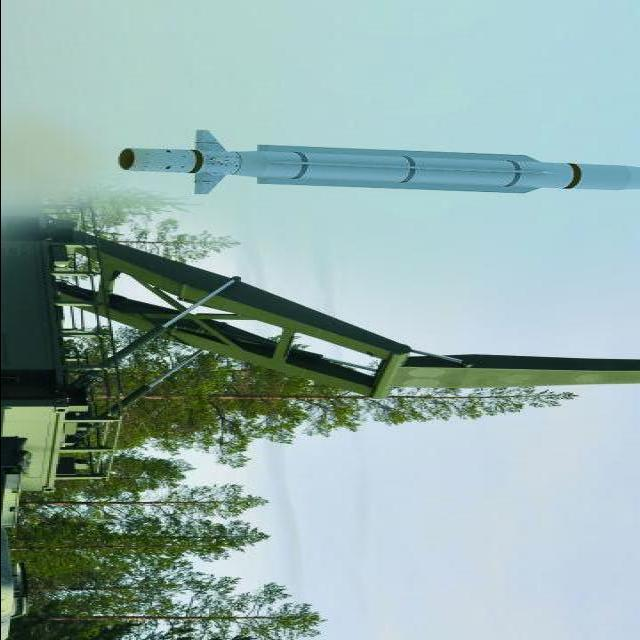missile: (100, 119, 640, 200)
